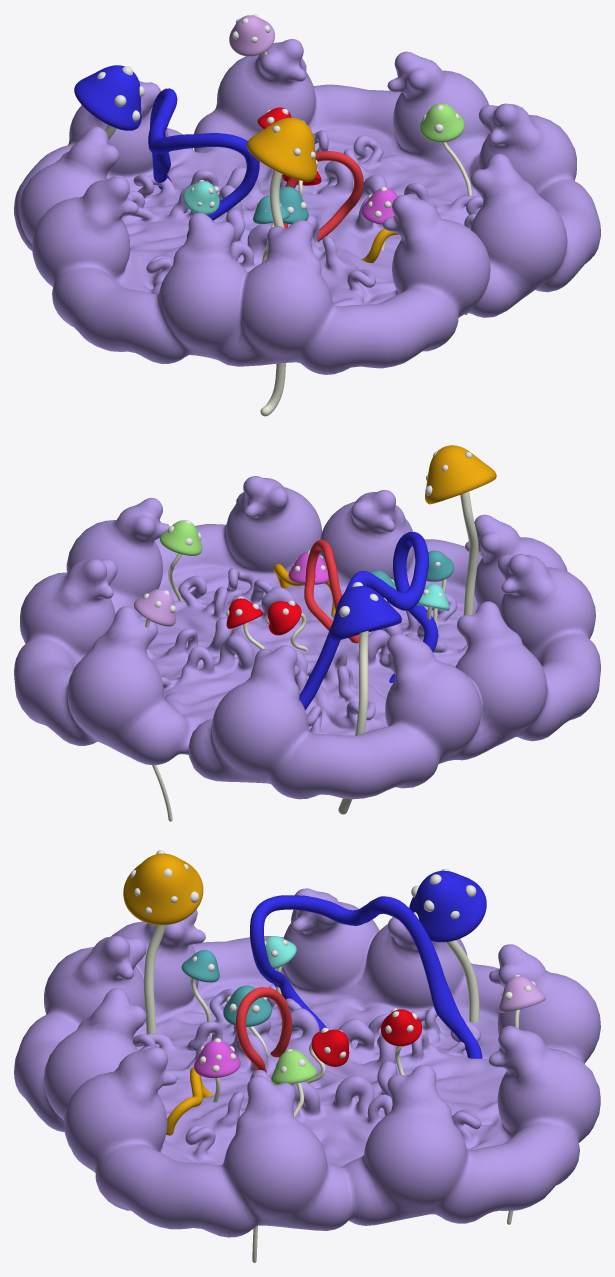
The model's file is world2.glb.
3 views of the same model, one above another, from view 1: azimuth 30°, elevation 25°; view 2: azimuth 150°, elevation 25°; view 3: azimuth 270°, elevation 25° (orthographic). The views are drawn at different scales.
Visible parts, largest first — view 1: Retopo_Layer_2.002, Retopo_Layer_3.003, Retopo_Layer_28, Retopo_Layer_24, Retopo_Layer_14, Retopo_Layer_3.001, Retopo_Layer_39.004, Retopo_Layer_22, Retopo_Layer_19, Retopo_Layer_26, Retopo_Layer_18, Retopo_Layer_23 (+1 smaller); view 2: Retopo_Layer_2.002, Retopo_Layer_3.003, Retopo_Layer_14, Retopo_Layer_28, Retopo_Layer_24, Retopo_Layer_3.001, Retopo_Layer_22, Retopo_Layer_19, Retopo_Layer_39.004, Retopo_Layer_20, Retopo_Layer_18, Retopo_Layer_21 (+2 smaller); view 3: Retopo_Layer_2.002, Retopo_Layer_3.003, Retopo_Layer_28, Retopo_Layer_24, Retopo_Layer_14, Retopo_Layer_39.004, Retopo_Layer_3.001, Retopo_Layer_18, Retopo_Layer_21, Retopo_Layer_20, Retopo_Layer_19, Retopo_Layer_22 (+4 smaller).
Part boxes in pixels (x1,y1,x2,y2): Retopo_Layer_2.002: (14, 39, 600, 374); Retopo_Layer_3.003: (148, 88, 259, 238); Retopo_Layer_28: (247, 117, 316, 181); Retopo_Layer_24: (74, 65, 141, 130); Retopo_Layer_14: (104, 51, 472, 416); Retopo_Layer_3.001: (283, 151, 363, 241); Retopo_Layer_39.004: (97, 14, 459, 217); Retopo_Layer_22: (229, 15, 274, 56); Retopo_Layer_19: (420, 103, 464, 142); Retopo_Layer_26: (183, 181, 219, 214); Retopo_Layer_18: (361, 188, 397, 224); Retopo_Layer_23: (279, 186, 308, 224); Retopo_Layer_2.002: (14, 476, 600, 799); Retopo_Layer_3.003: (299, 531, 438, 710); Retopo_Layer_14: (145, 491, 478, 821); Retopo_Layer_28: (425, 445, 496, 504); Retopo_Layer_24: (329, 585, 401, 641); Retopo_Layer_3.001: (304, 539, 358, 643); Retopo_Layer_22: (134, 589, 175, 626); Retopo_Layer_19: (160, 520, 202, 555); Retopo_Layer_39.004: (143, 451, 472, 624); Retopo_Layer_20: (267, 601, 301, 635); Retopo_Layer_18: (288, 551, 328, 584); Retopo_Layer_21: (226, 598, 262, 628); Retopo_Layer_2.002: (14, 888, 600, 1237); Retopo_Layer_3.003: (250, 895, 482, 1058); Retopo_Layer_28: (123, 853, 203, 925); Retopo_Layer_24: (409, 870, 486, 942); Retopo_Layer_14: (144, 925, 519, 1262); Retopo_Layer_39.004: (130, 850, 535, 1072); Retopo_Layer_3.001: (236, 987, 291, 1072); Retopo_Layer_18: (194, 1040, 240, 1078); Retopo_Layer_21: (381, 1009, 422, 1046); Retopo_Layer_20: (311, 1029, 349, 1066); Retopo_Layer_19: (271, 1049, 317, 1084); Retopo_Layer_22: (499, 976, 545, 1012).
Size of the model in its own units: 265 by 148 by 251.
